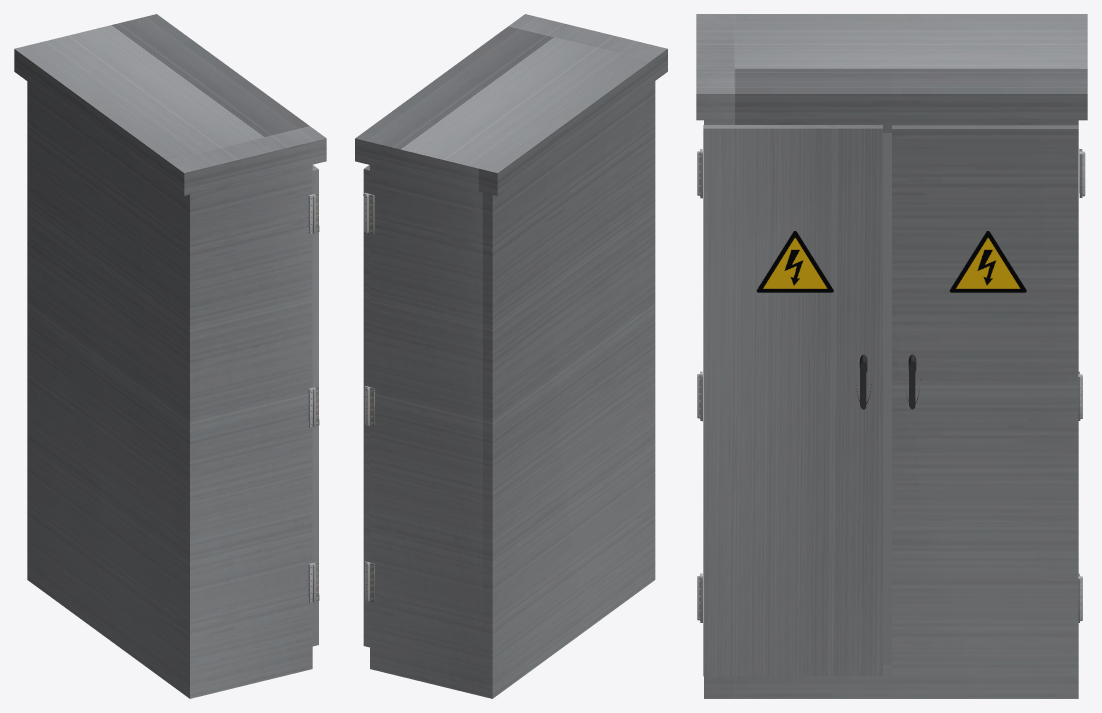
File: Fusebox_Final.fbx
3 views of the same model, side by side, from view 1: azimuth 30°, elevation 25°; view 2: azimuth 150°, elevation 25°; view 3: azimuth 270°, elevation 25° (orthographic). The views are drawn at different scales.
Visible parts, largest first — view 1: Cube, Cube.003; view 2: Cube, Cube.002; view 3: Cube.002, Cube.003, Cube.
Boxes of the visible parts, <box> form: Cube: <box>14,14,326,698</box>; Cube.003: <box>312,165,318,646</box>; Cube: <box>355,14,667,698</box>; Cube.002: <box>363,165,369,647</box>; Cube.002: <box>892,125,1078,677</box>; Cube.003: <box>703,125,882,676</box>; Cube: <box>696,14,1087,698</box>.
Bounding box in the file's own units: 108 × 360 × 209.
